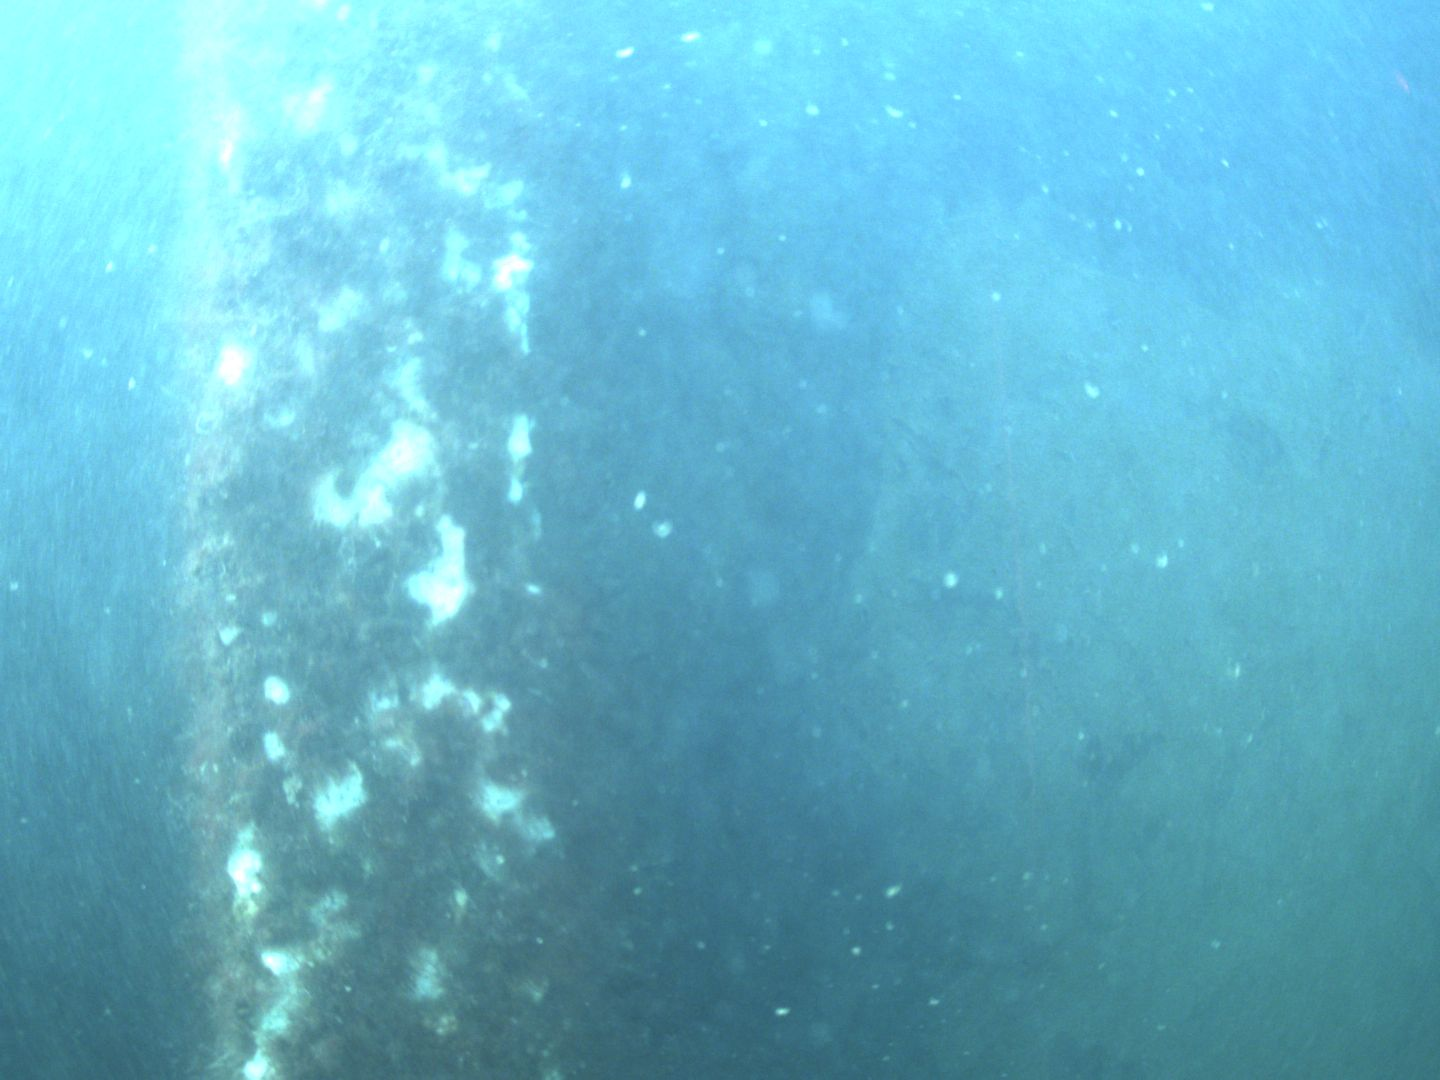anode: (196, 0, 553, 1080)
